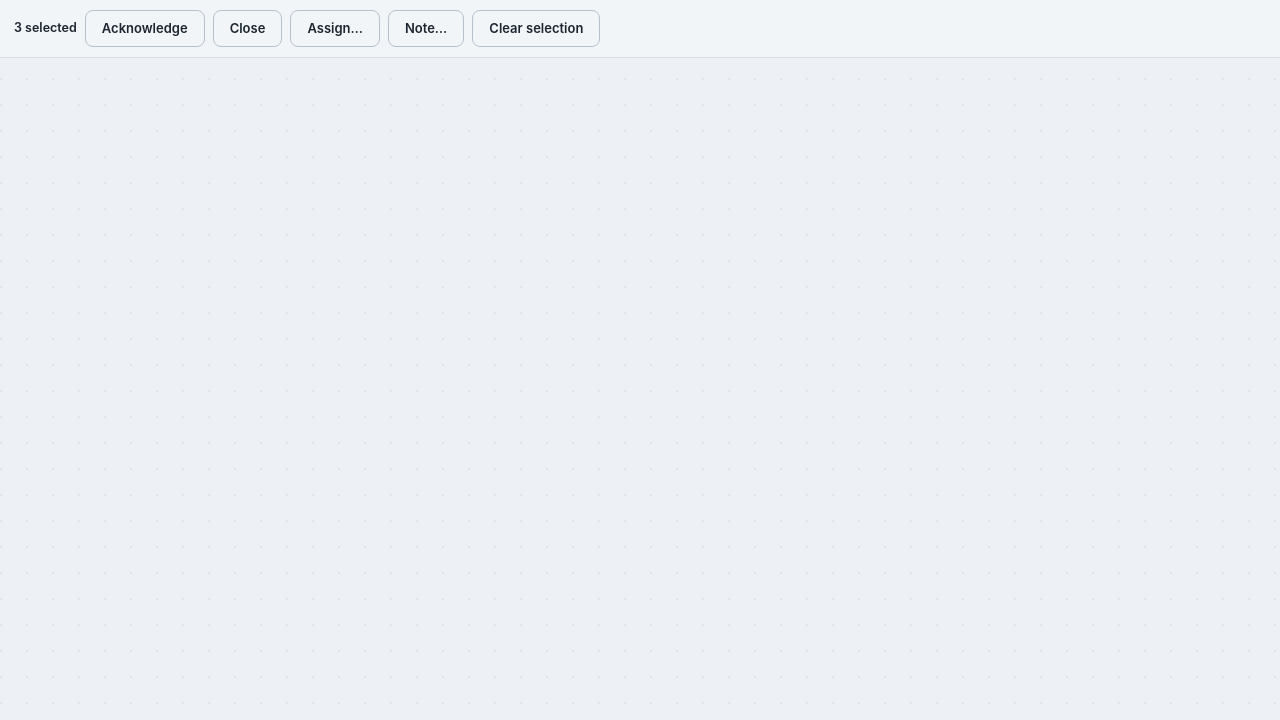
Scenario: BulkActionBar › surfaces a failure instead of reporting a result
This screenshot has width=1280, height=720.
What coordinates should you click on to do the following:
click the button "Close"
I would click on:
 (247, 28)
Its box is [213, 10, 282, 47].
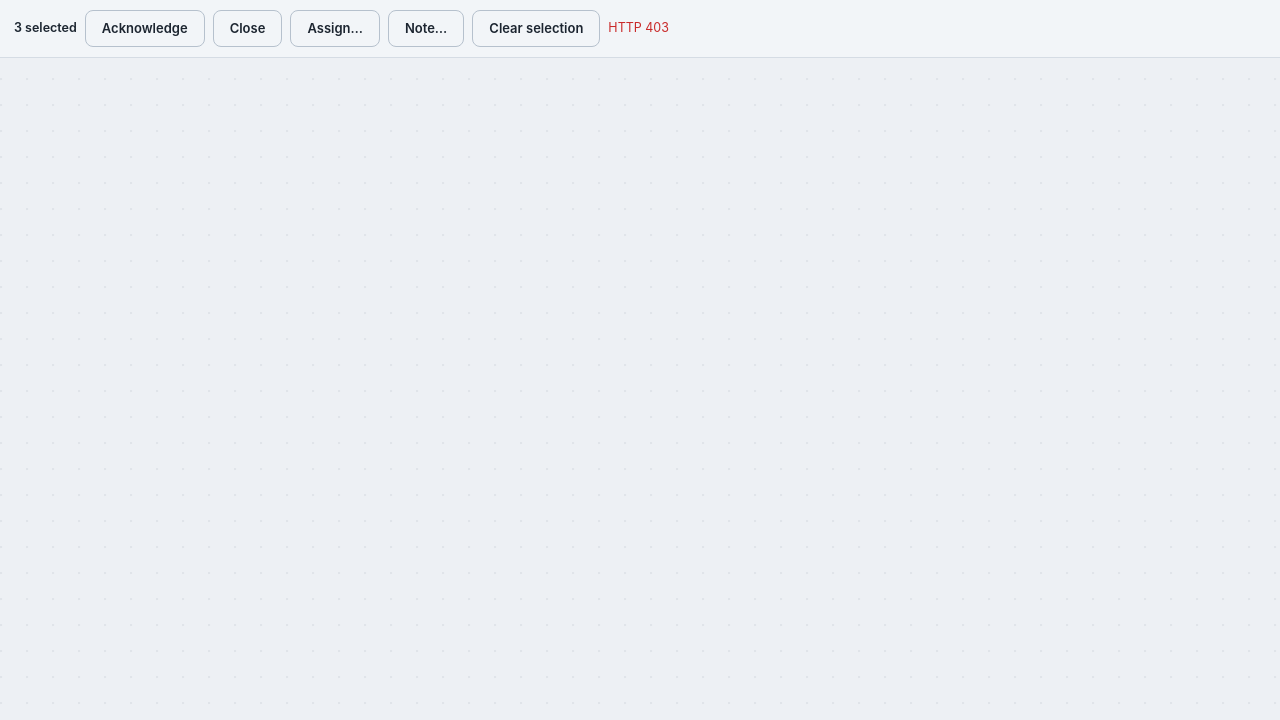
expect the message reads "HTTP 403": met, box [608, 20, 669, 35]
